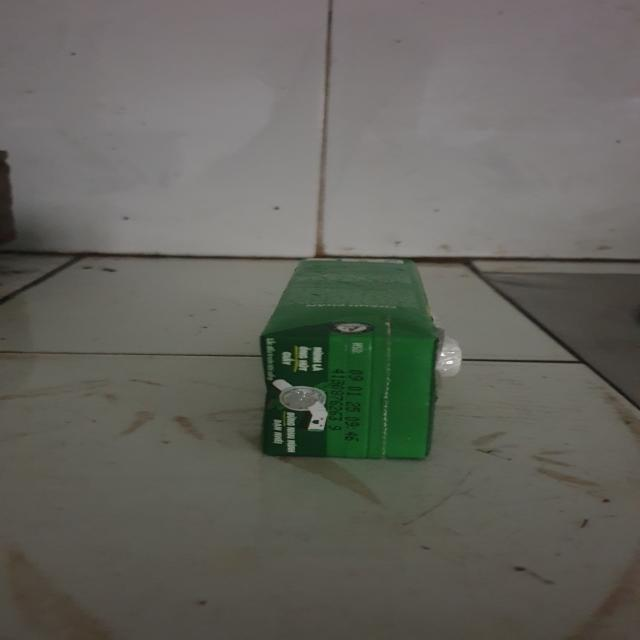Milo: (263, 257, 464, 454)
